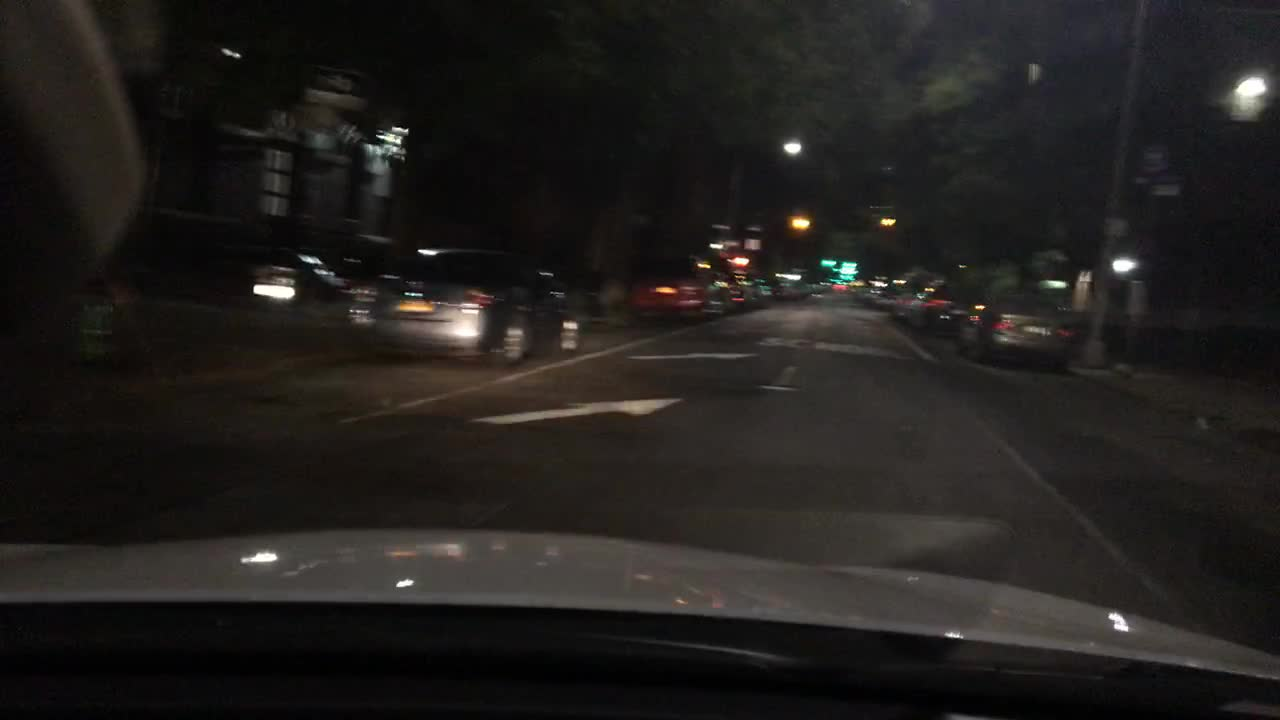car: (347, 245, 583, 366), (186, 240, 355, 306), (955, 293, 1082, 373), (621, 249, 732, 325), (894, 276, 972, 335), (715, 270, 747, 314), (736, 270, 775, 306), (874, 277, 915, 309), (772, 271, 812, 298), (861, 276, 890, 300), (846, 275, 865, 294)
